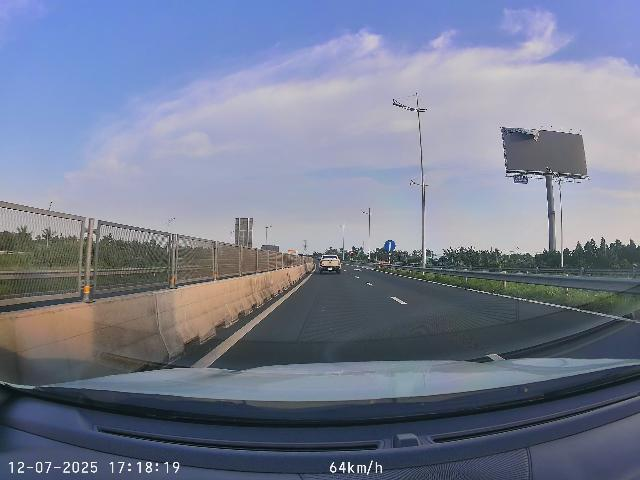301a-cac-xe-chi-duoc-di-thang: (384, 240, 396, 251)
